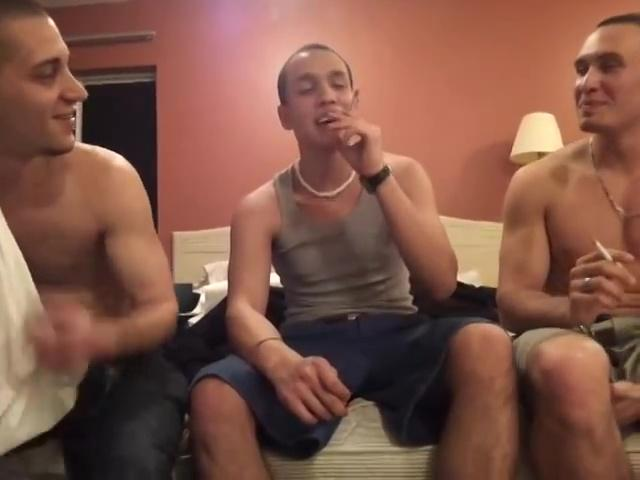cigarette: (591, 237, 619, 263), (346, 86, 361, 116)
